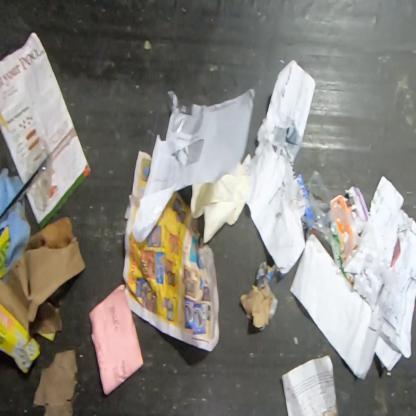cardboard: (0, 213, 87, 334), (88, 282, 145, 396), (0, 304, 41, 374), (0, 226, 10, 270), (39, 332, 56, 342)
metal: (0, 168, 40, 220)
soft_plastic: (304, 168, 376, 259), (0, 189, 32, 279), (25, 136, 53, 212), (0, 166, 25, 218)
